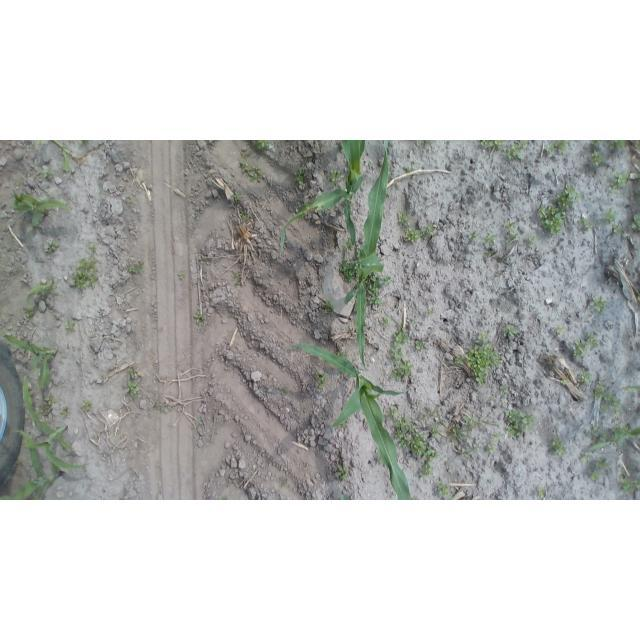Maize: (284, 344, 413, 499), (342, 147, 399, 378), (281, 140, 369, 254), (16, 376, 87, 472), (2, 331, 59, 391), (10, 189, 73, 229), (0, 463, 64, 500)
Weeds: (464, 338, 500, 386), (393, 416, 435, 455), (591, 424, 640, 449), (72, 257, 99, 291), (538, 201, 564, 235), (504, 410, 535, 438), (367, 274, 392, 306), (25, 281, 56, 303), (557, 185, 580, 211), (239, 160, 263, 182), (390, 361, 412, 382), (418, 454, 436, 479), (607, 173, 630, 192), (586, 426, 609, 443), (588, 295, 608, 314), (618, 476, 638, 495), (339, 261, 357, 282), (603, 392, 621, 412), (40, 395, 56, 416), (393, 325, 409, 346), (505, 143, 523, 161), (550, 437, 567, 456), (573, 339, 588, 360), (125, 375, 139, 397), (125, 258, 143, 275), (403, 228, 424, 242), (436, 482, 453, 498), (551, 140, 570, 154), (449, 425, 463, 444), (593, 381, 606, 400), (327, 169, 342, 185), (335, 465, 349, 482), (315, 371, 328, 389), (249, 141, 270, 152), (429, 425, 444, 440), (591, 149, 603, 167), (480, 140, 504, 149), (390, 345, 405, 359), (601, 209, 615, 224), (504, 220, 517, 236), (505, 325, 518, 340), (587, 333, 600, 348), (482, 232, 496, 245), (46, 241, 60, 254), (578, 217, 590, 232), (297, 167, 307, 185), (397, 212, 410, 225), (579, 371, 591, 385), (322, 299, 334, 313), (464, 417, 480, 427), (193, 311, 204, 325), (487, 444, 501, 455), (610, 140, 625, 150), (476, 331, 488, 343), (588, 470, 602, 480), (597, 459, 609, 470), (86, 241, 97, 253), (554, 325, 566, 336), (380, 315, 390, 328), (82, 401, 93, 412), (536, 488, 547, 499), (527, 235, 538, 246), (425, 224, 436, 235), (625, 385, 640, 393), (343, 238, 353, 250), (632, 214, 639, 231), (60, 406, 69, 419), (469, 231, 480, 241), (415, 340, 426, 350), (612, 225, 622, 236), (500, 384, 509, 396), (278, 386, 290, 395), (44, 168, 53, 180), (65, 321, 75, 331), (239, 210, 249, 219), (162, 405, 172, 414), (234, 191, 243, 201), (454, 355, 462, 366), (233, 272, 241, 283), (580, 453, 589, 462), (26, 310, 35, 319), (404, 166, 414, 174), (227, 313, 237, 321), (591, 140, 604, 145), (420, 141, 433, 146), (425, 308, 433, 316), (125, 196, 133, 204), (493, 433, 502, 440), (178, 271, 185, 279), (34, 141, 43, 146), (217, 495, 227, 499)
